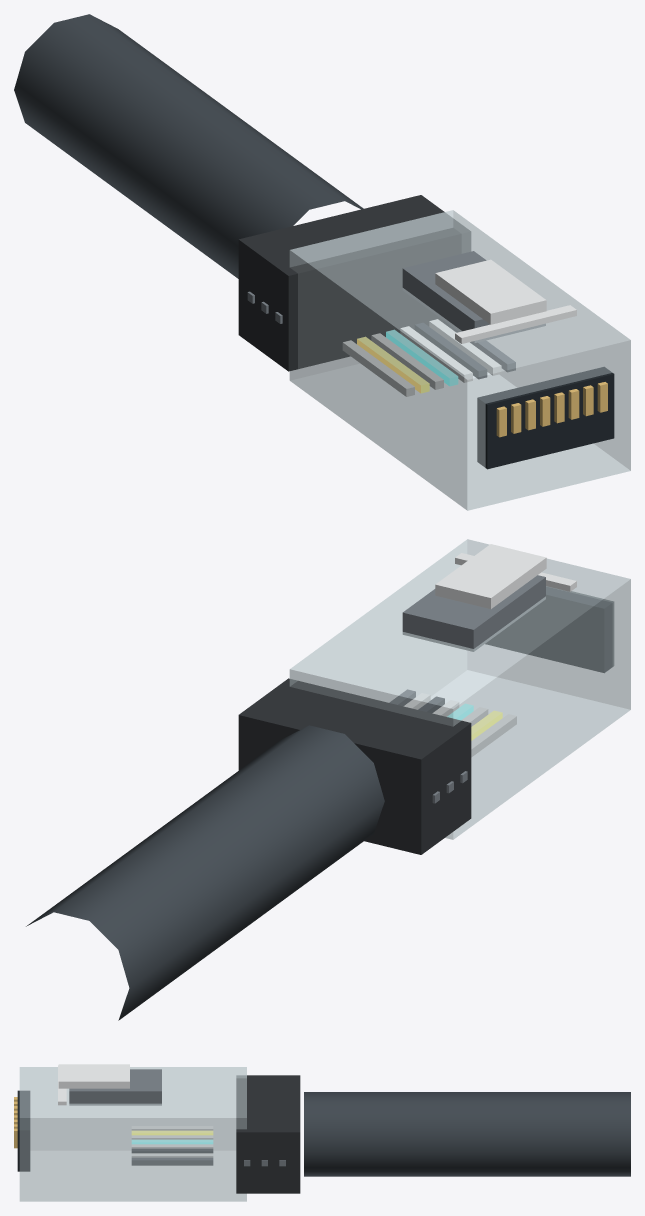
File: rj45-connector.glb
3 renders of one model, top to bottom at view 1: azimuth 30°, elevation 25°; view 2: azimuth 150°, elevation 25°; view 3: azimuth 270°, elevation 25°, orthographic. The views are drawn at different scales.
Visible parts, largest first — view 1: clear, cable, rubber, white, port, edge, gold, amber, accent, led; view 2: clear, cable, rubber, port, white, edge; view 3: cable, clear, rubber, white, edge, port, case, led, amber, accent.
Boxes of the visible parts, <box> form: clear: <box>289,210,630,510</box>; cable: <box>14,14,363,278</box>; rubber: <box>238,195,470,371</box>; white: <box>342,259,576,396</box>; port: <box>477,367,614,469</box>; edge: <box>247,251,545,342</box>; gold: <box>496,382,607,437</box>; amber: <box>357,336,429,393</box>; accent: <box>414,323,487,379</box>; led: <box>386,329,458,386</box>; clear: <box>289,539,630,839</box>; cable: <box>26,725,384,1020</box>; rubber: <box>238,678,471,854</box>; port: <box>485,586,613,672</box>; white: <box>404,544,576,757</box>; edge: <box>402,575,545,803</box>; cable: <box>304,1092,630,1176</box>; clear: <box>19,1067,246,1201</box>; rubber: <box>236,1075,300,1193</box>; white: <box>58,1064,213,1157</box>; edge: <box>69,1069,285,1166</box>; port: <box>17,1090,30,1171</box>; case: <box>131,1157,213,1165</box>; led: <box>131,1139,213,1144</box>; amber: <box>131,1130,213,1135</box>; accent: <box>131,1148,213,1153</box>.
Bounding box in the file's own units: 0.195 × 0.1605 × 0.868.
